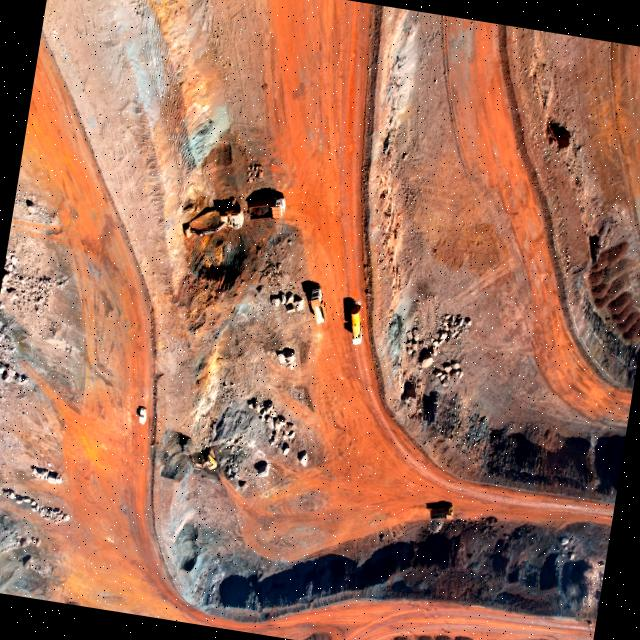Dumper truck: (248, 189, 288, 222), (308, 286, 329, 324), (429, 500, 454, 524)
Excavator: (184, 200, 245, 245), (189, 446, 220, 472)
car: (136, 406, 150, 426)
